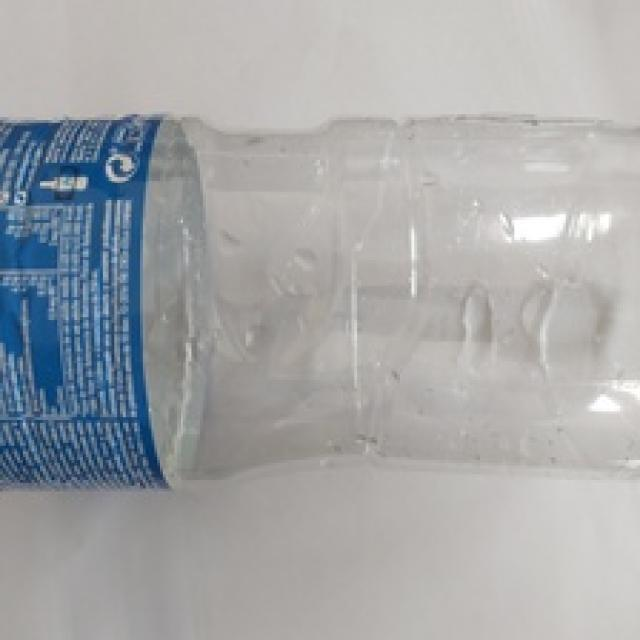Plastic: (0, 111, 640, 487)
